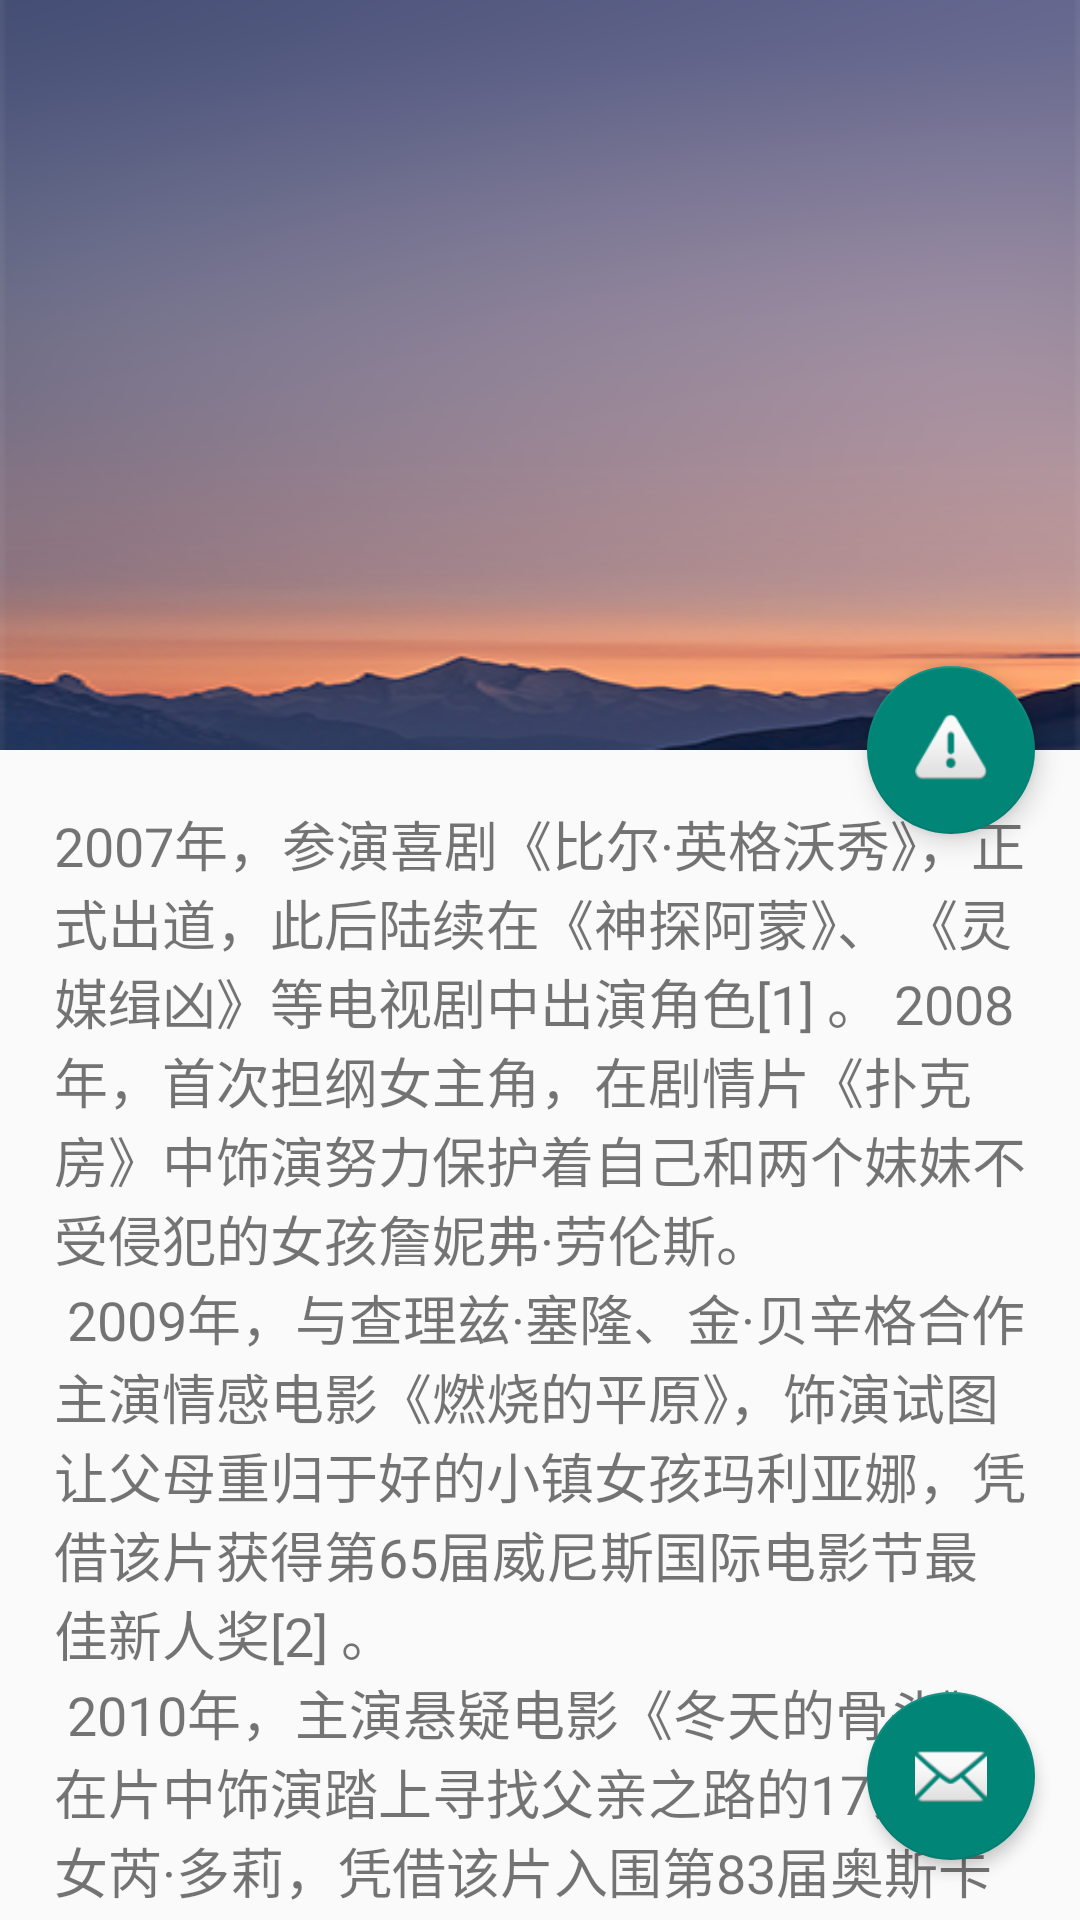

Point at icon controls on the screen. Image size 1080px x 1920px, points as point (x, y).
alert: point (951, 750)
email: point (951, 1776)
